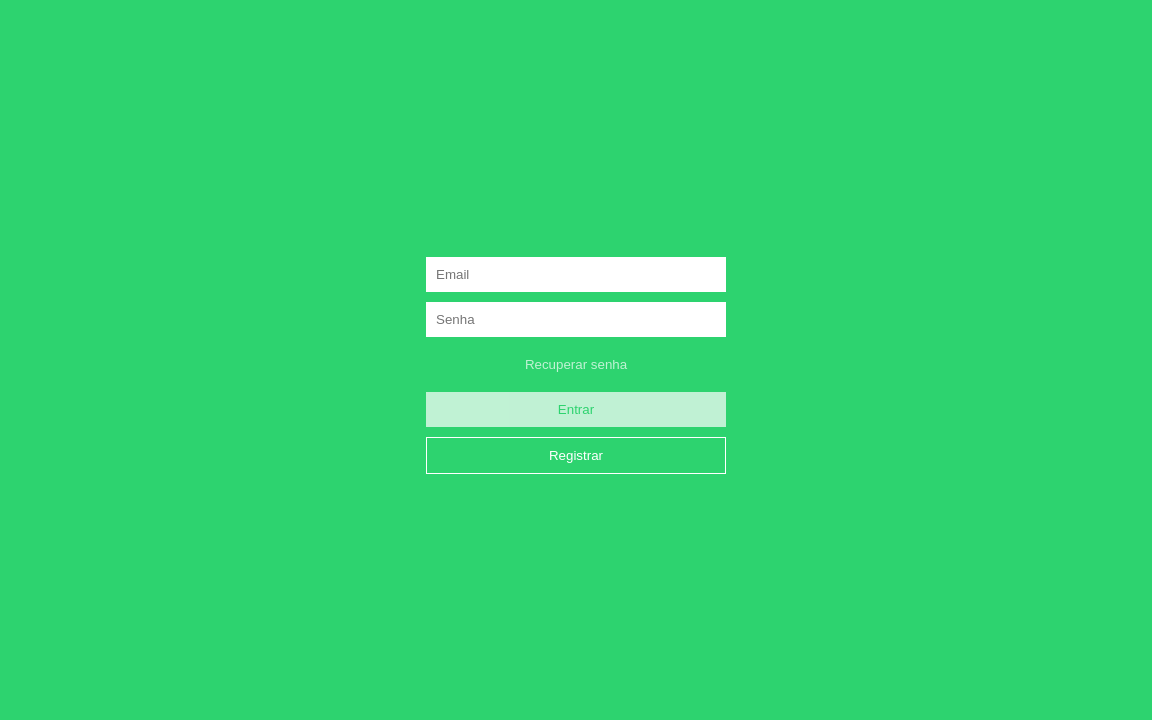
Test: Login › given user clicks on login button › then show loading
Type "valid@email.com" into the field with test id "email" at (576, 274), box [426,256,726,292]
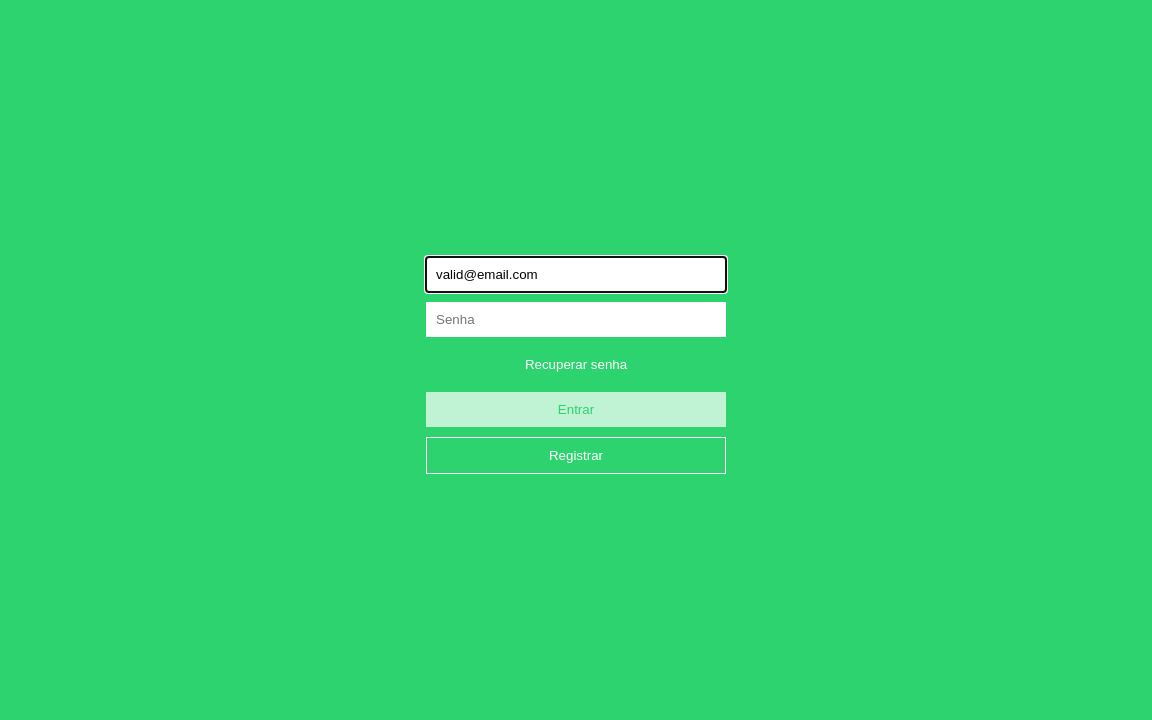
Type "anyValue" into the password field with test id "password" at (576, 319), box [426,302,726,336]
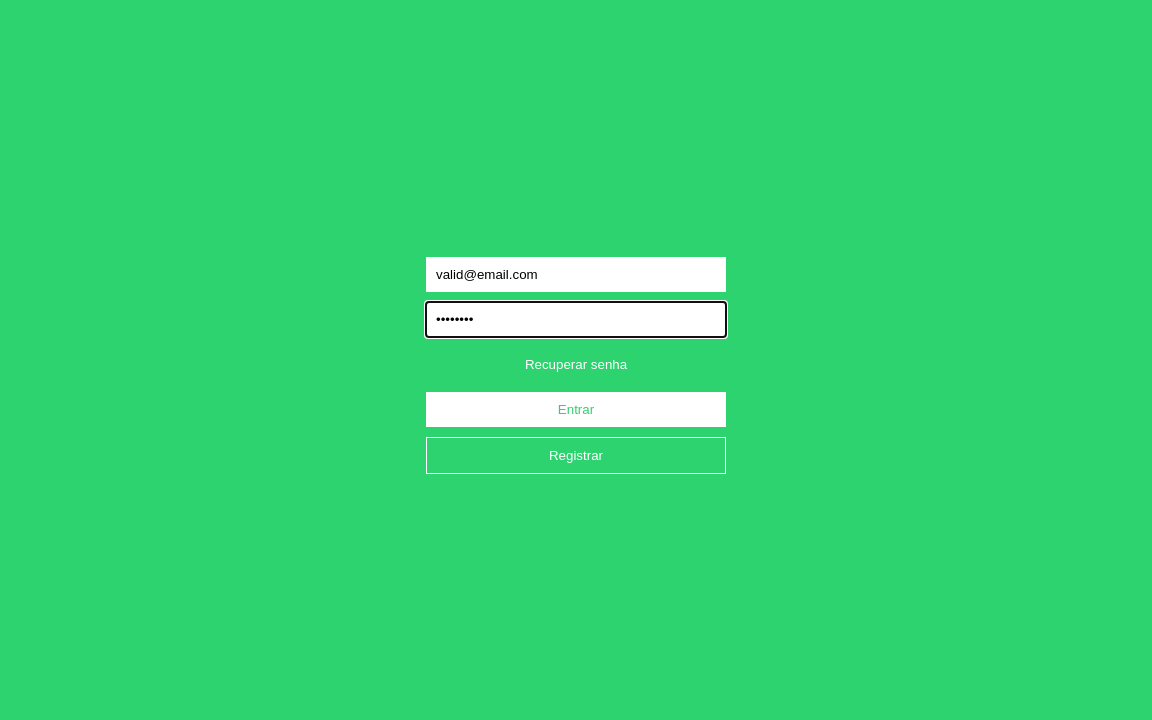
Click the button with test id "login-button" at (576, 409), box [426,392,726,426]
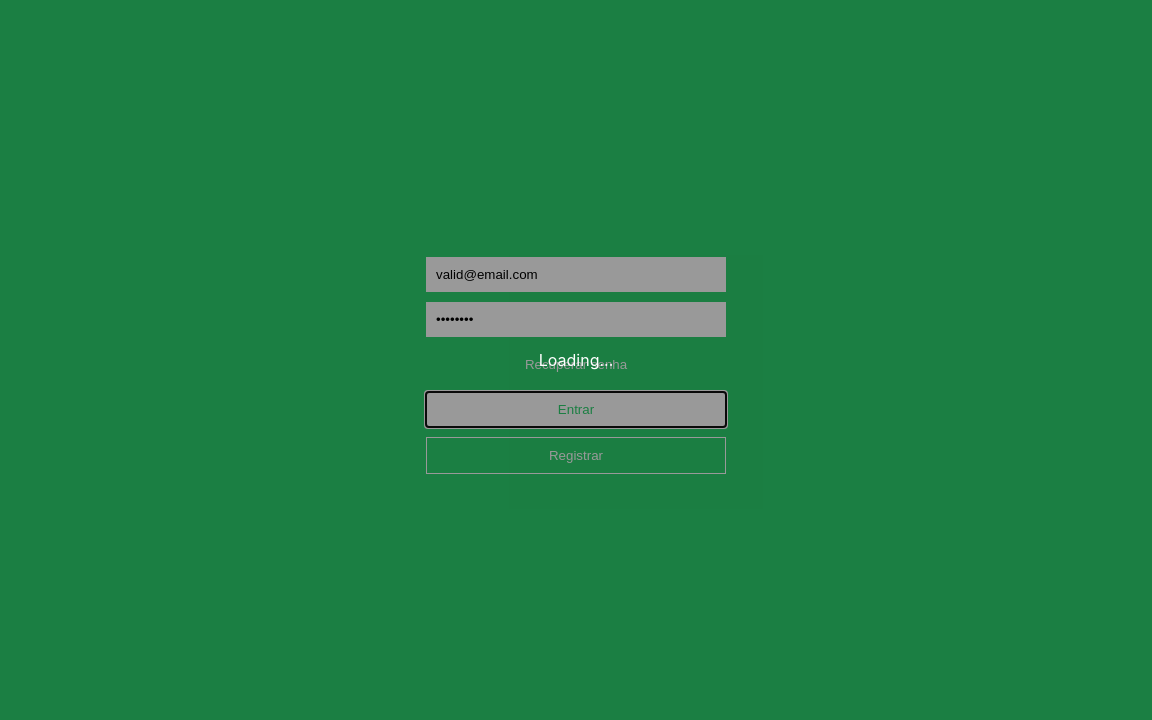
expect the text "Loading..." is shown: met
